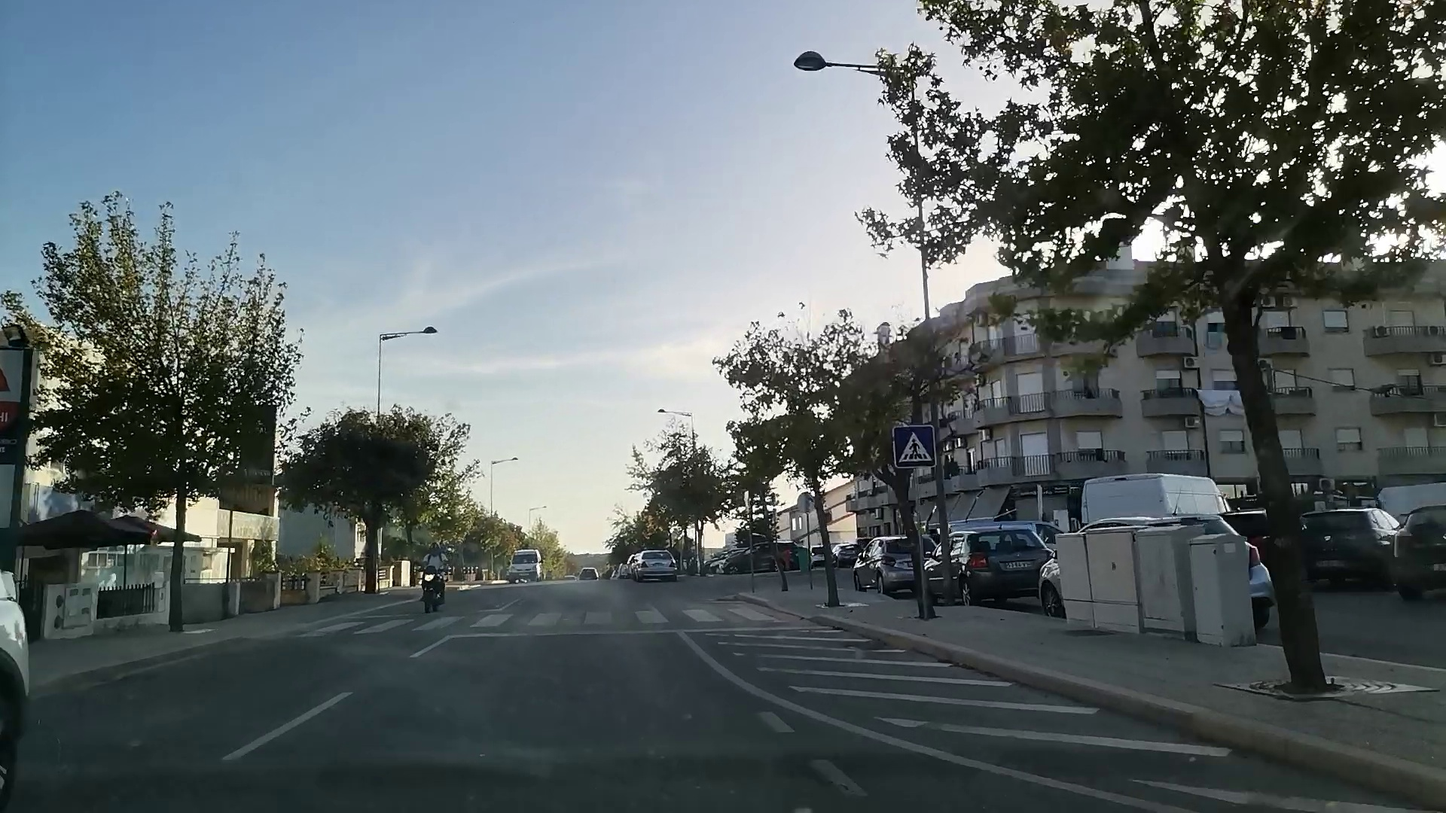Stairs: (290, 607, 774, 636)
